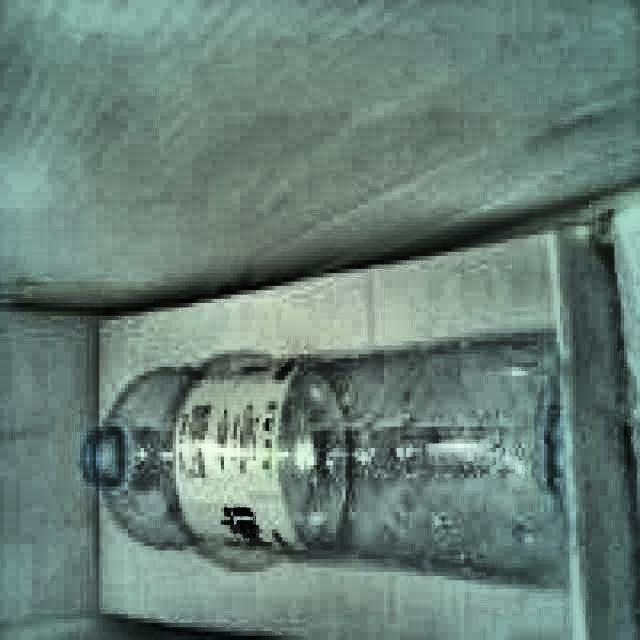plastic bottle: (78, 334, 569, 586)
